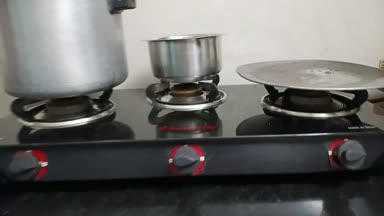flame_gas_off: (277, 87, 370, 168), (153, 79, 216, 175)
